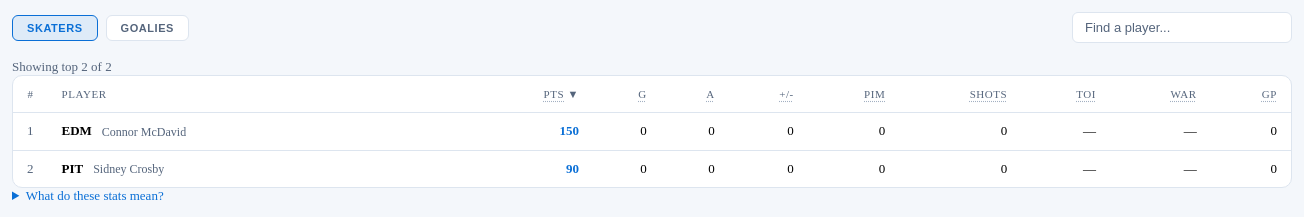
LeaderboardPanel › search filters by name and by team abbreviation, and drops the top-50 cap while searching
The width and height of the screenshot is (1304, 217).
Type "mcdavid" into the field with placeholder "Find a player..." at (1182, 28), box [1072,12,1292,43]
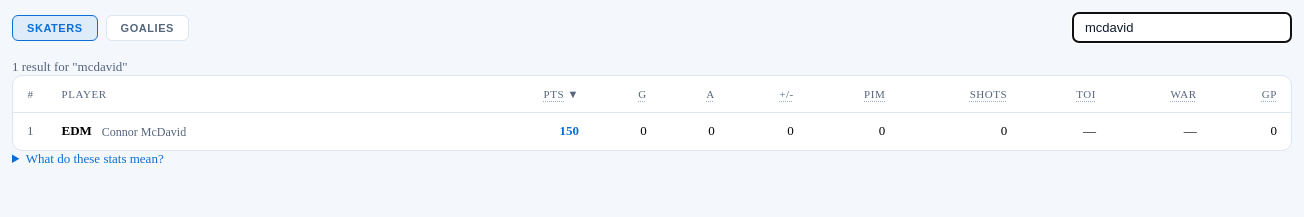
Expected: the text "Connor McDavid" is shown, [102,124,186,140]
Expected: the text "Crosby" is gone
Expected: the text "1 result for \"mcdavid\"" is shown, [12,59,128,74]
